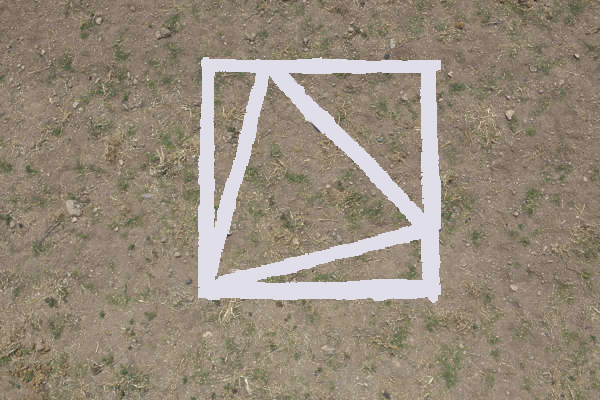marker: (195, 54, 445, 305)
